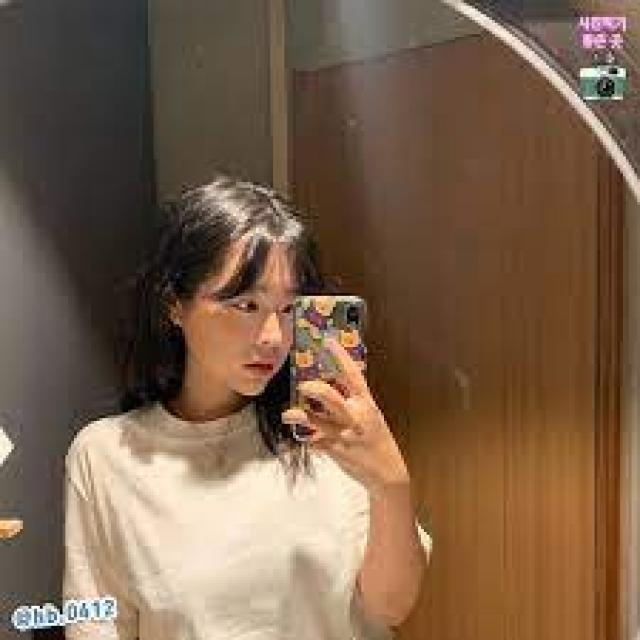Phone: (288, 294, 373, 445)
